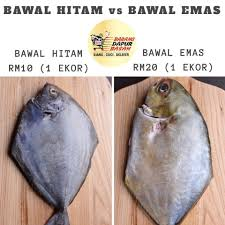Ikan Bawal: (4, 81, 103, 225), (128, 79, 214, 225)
